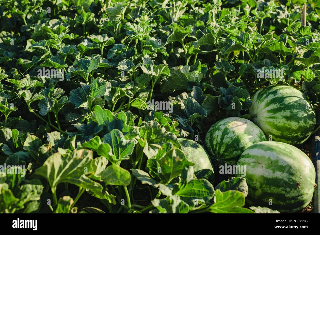dua_hau: (227, 140, 318, 211), (242, 79, 317, 149), (196, 108, 274, 172)
